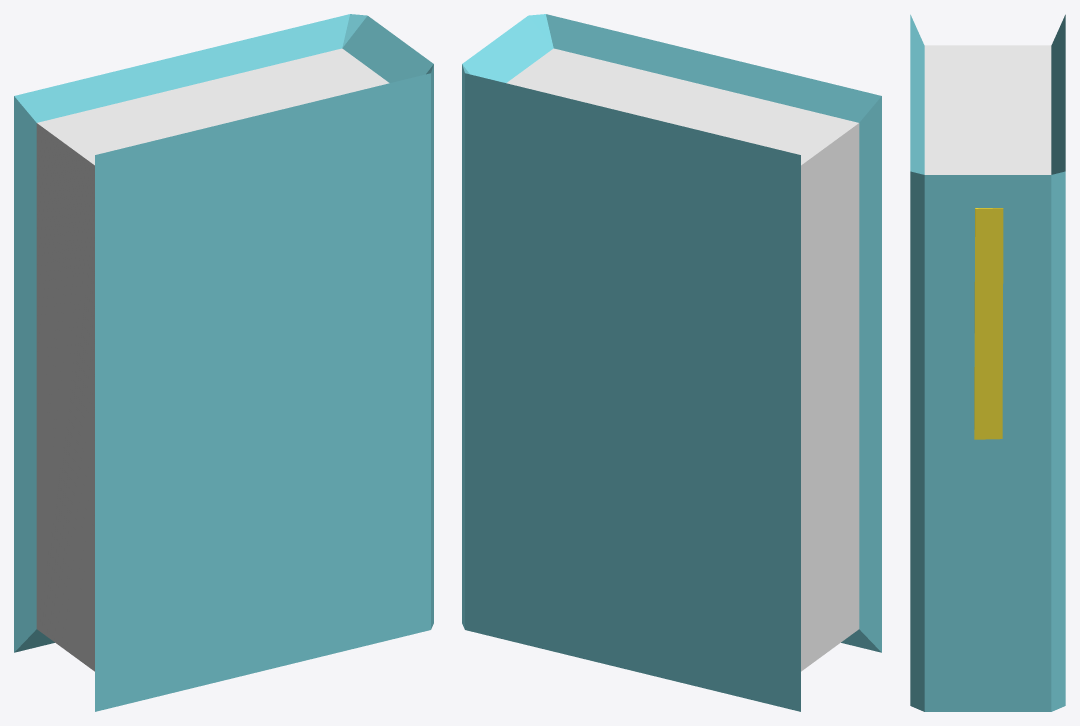
3 views of the same model, side by side, from view 1: azimuth 30°, elevation 25°; view 2: azimuth 150°, elevation 25°; view 3: azimuth 270°, elevation 25° (orthographic). The views are drawn at different scales.
Visible parts, largest first — view 1: mesh_32384503; view 2: mesh_32384503; view 3: mesh_32384503, mesh_801082738.
Boxes of the visible parts, left/top/right/bottom form: mesh_32384503: left=14, top=14, right=433, bottom=711; mesh_32384503: left=462, top=14, right=881, bottom=711; mesh_32384503: left=910, top=14, right=1065, bottom=711; mesh_801082738: left=974, top=208, right=1003, bottom=439.
Size of the model in its own units: 27.48 by 42 by 11.
